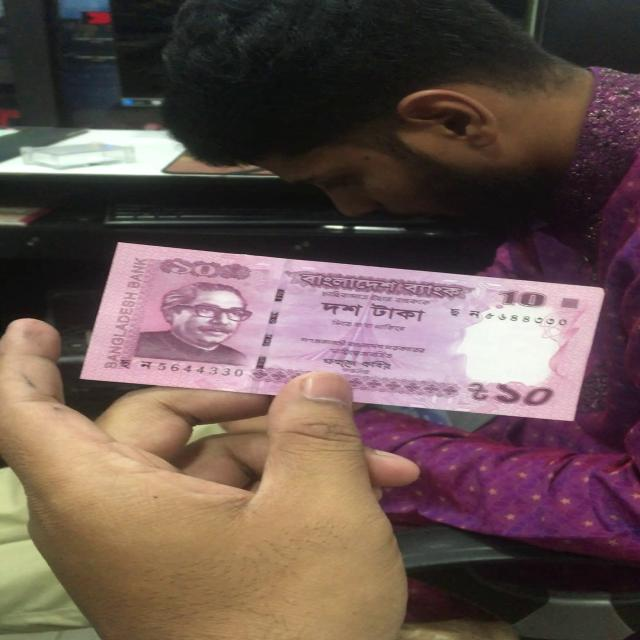Taka: (90, 238, 582, 428)
